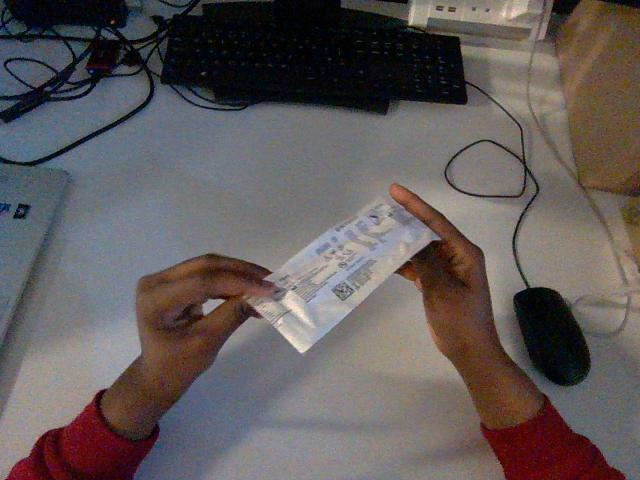syringe: (246, 198, 436, 352)
